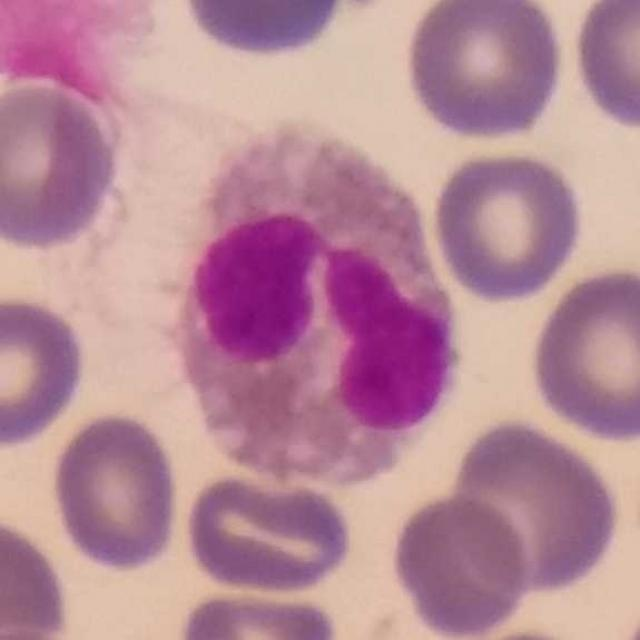Eosinophil: (162, 111, 465, 502)
RBC: (444, 414, 626, 598), (427, 146, 588, 305), (398, 0, 569, 145), (45, 408, 184, 576), (179, 468, 356, 598), (0, 76, 127, 252), (389, 491, 533, 639), (525, 262, 640, 446), (0, 290, 91, 450), (173, 0, 360, 62), (567, 0, 640, 134), (174, 583, 345, 640), (0, 511, 75, 640)
